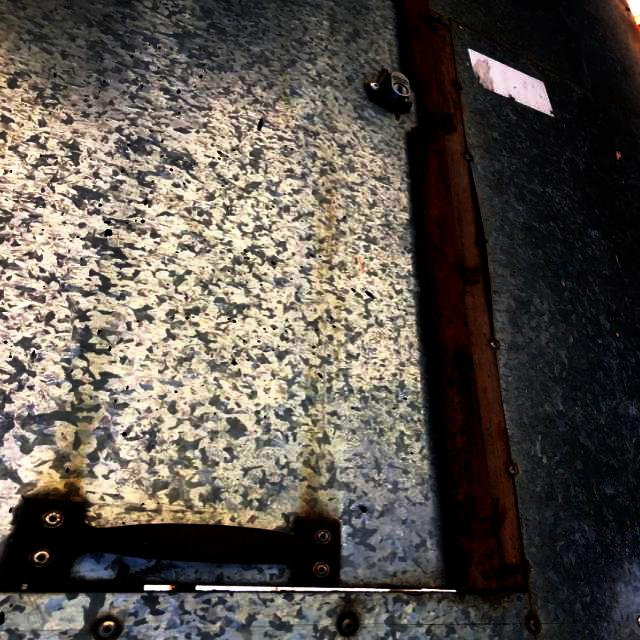Corrosion: (395, 0, 529, 590), (2, 499, 341, 588)
